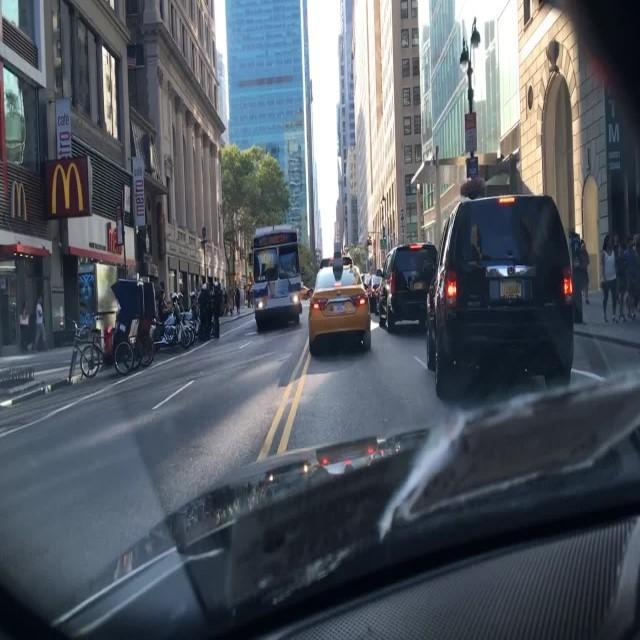normal: (427, 197, 581, 400), (305, 259, 374, 353), (250, 224, 306, 330), (377, 243, 439, 332)
